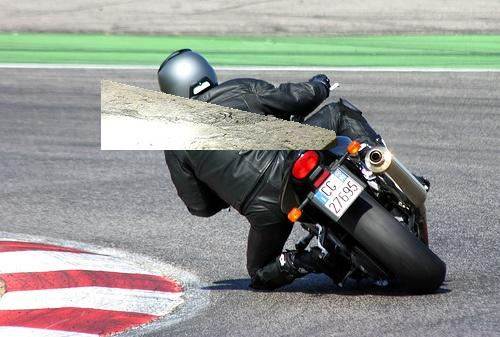tampered: (102, 80, 338, 150)
